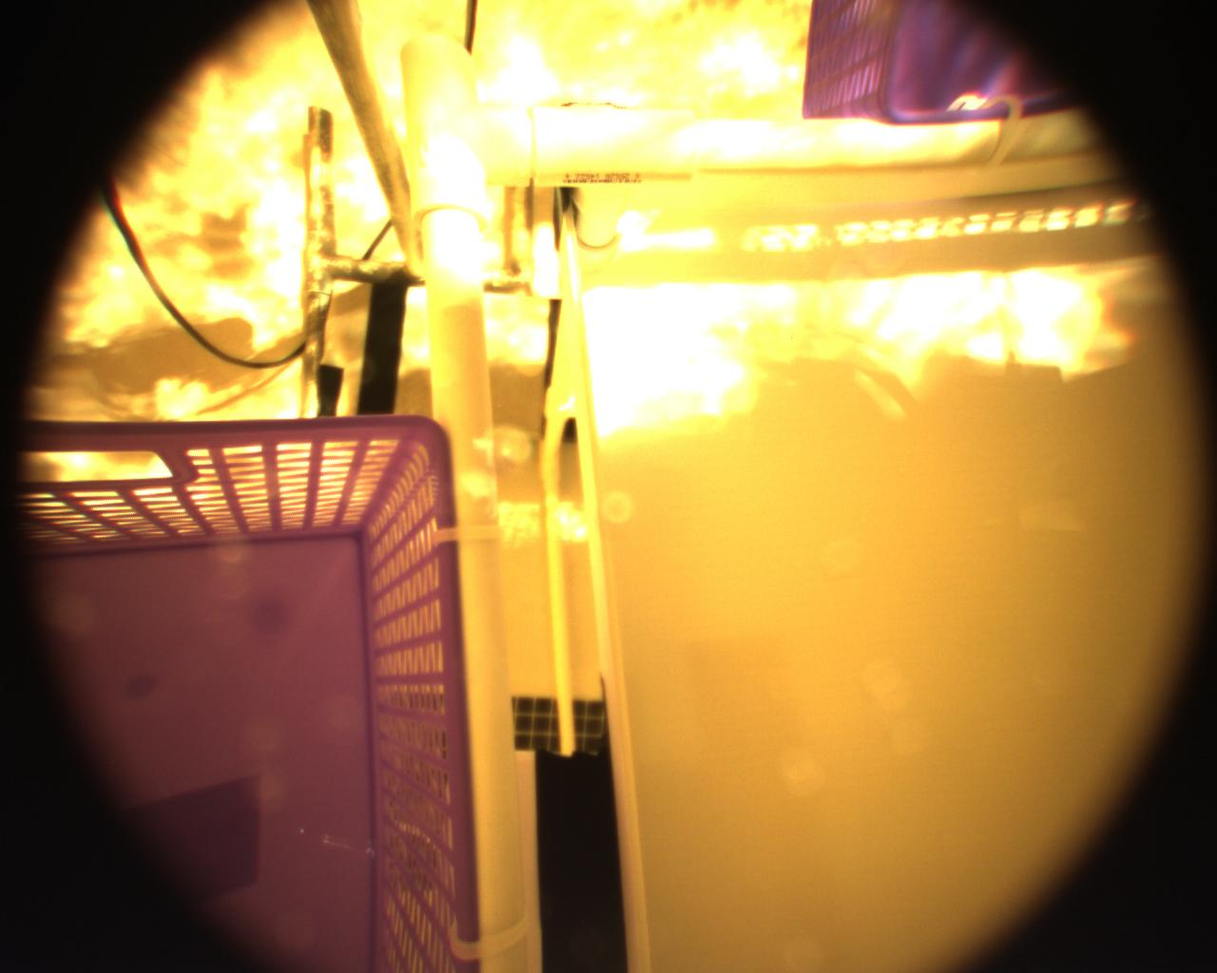coral-box-side: (545, 121, 1213, 971)
